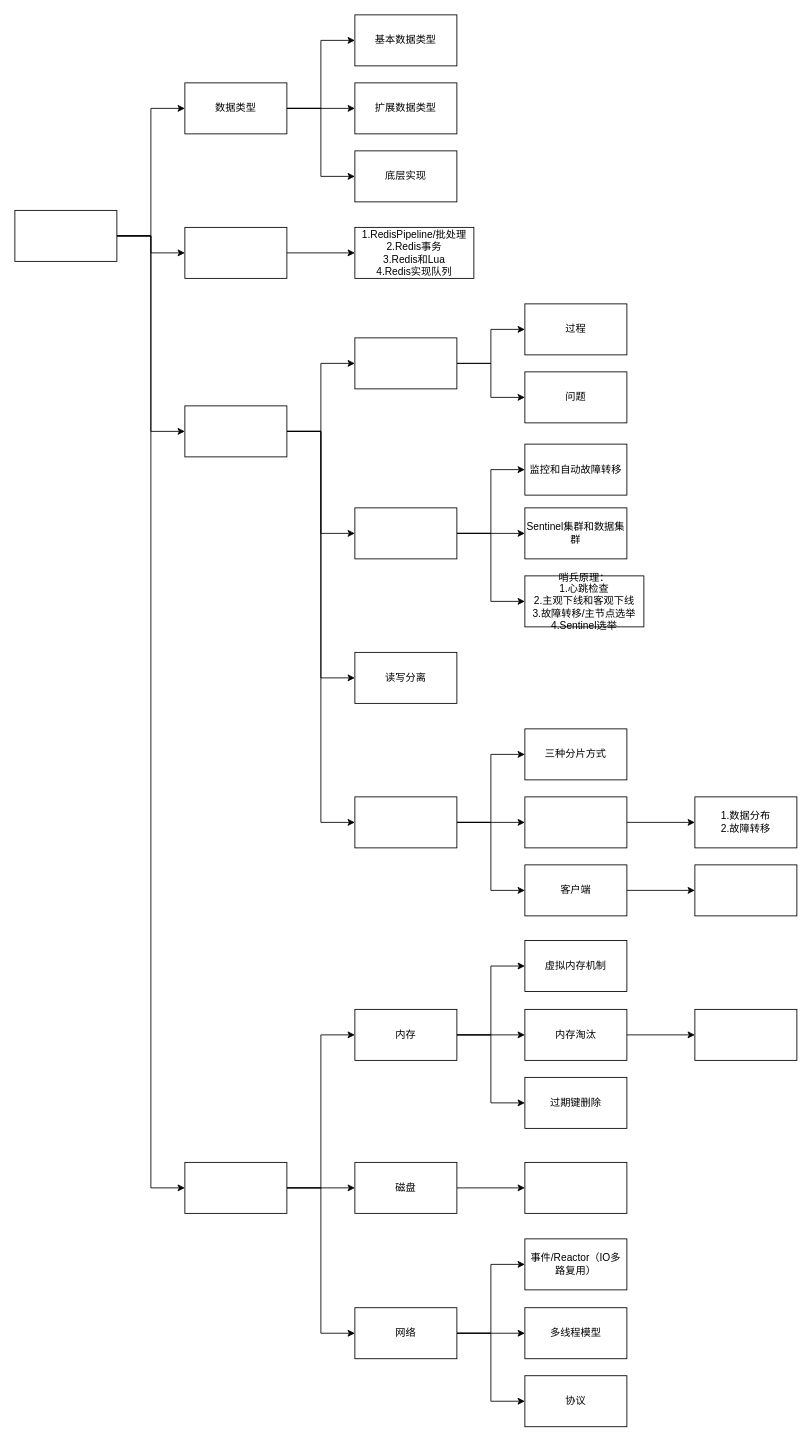
Some shapes in this 812 by 1442 pixel diagram are drawn without their labels. Here are the shapes that lost their labels. From the top down, the centre of each, then its label:
At pixel 65 235: "Redis".
At pixel 235 252: "内置功能".
At pixel 405 363: "主从复制".
At pixel 235 431: "高可用".
At pixel 405 533: "哨兵模式".
At pixel 405 822: "集群模式".
At pixel 575 822: "服务端".
At pixel 745 890: "1.请求重定向 2.ASK重定向".
At pixel 745 1034: "1.内存设置 2.淘汰算法 3.淘汰策略选择".
At pixel 235 1187: "原理".
At pixel 575 1187: "持久化".
